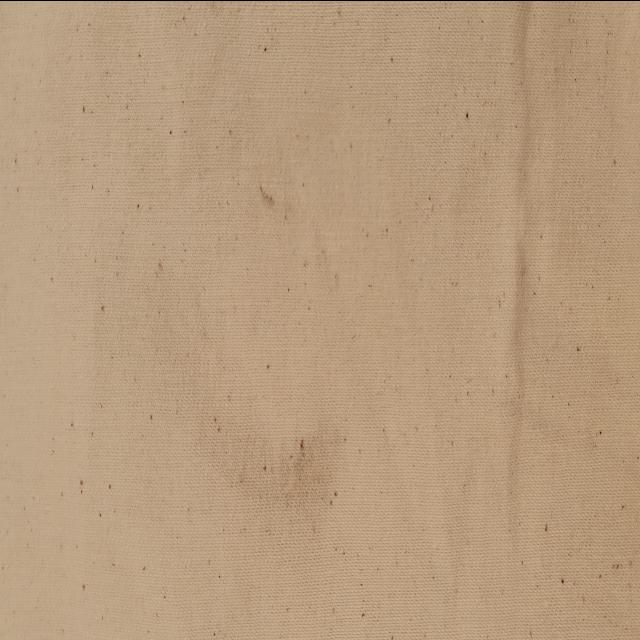taaaches: (220, 396, 350, 520), (253, 163, 281, 226)
